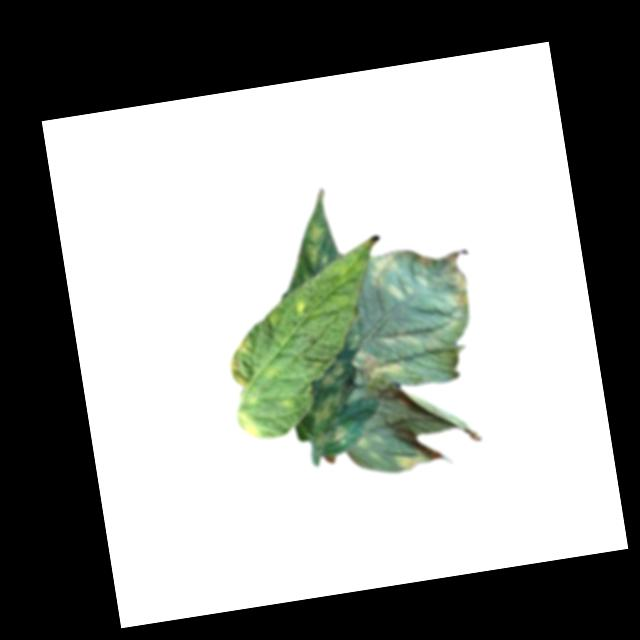Leaf_Mold: (304, 359, 355, 425), (355, 344, 408, 399), (366, 247, 412, 307), (440, 245, 479, 308), (224, 331, 259, 388), (299, 220, 330, 271), (236, 401, 264, 440), (394, 445, 428, 473)
